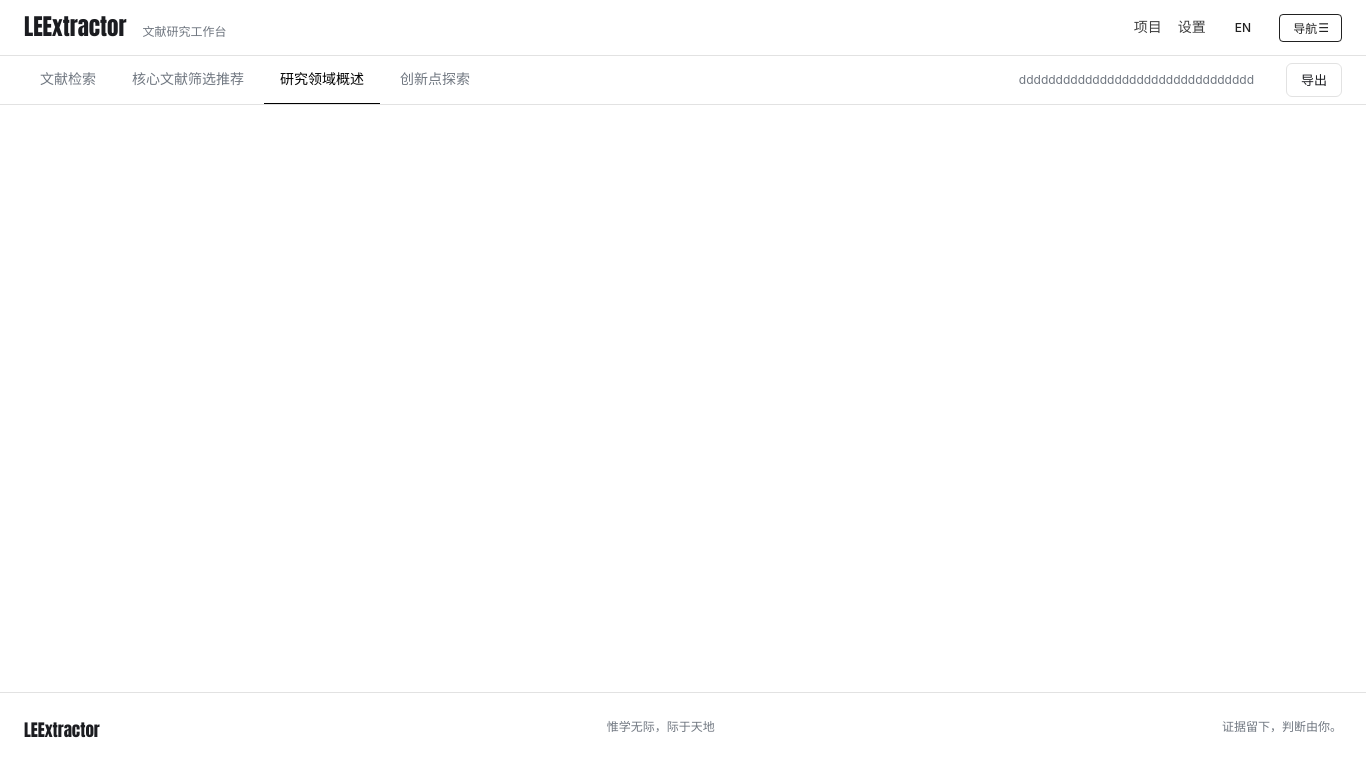
Test case: AppNav › marks the current stage, not a stale page name
Click the button "导航 ☰": {"x": 1311, "y": 28} [1279,14,1342,42]
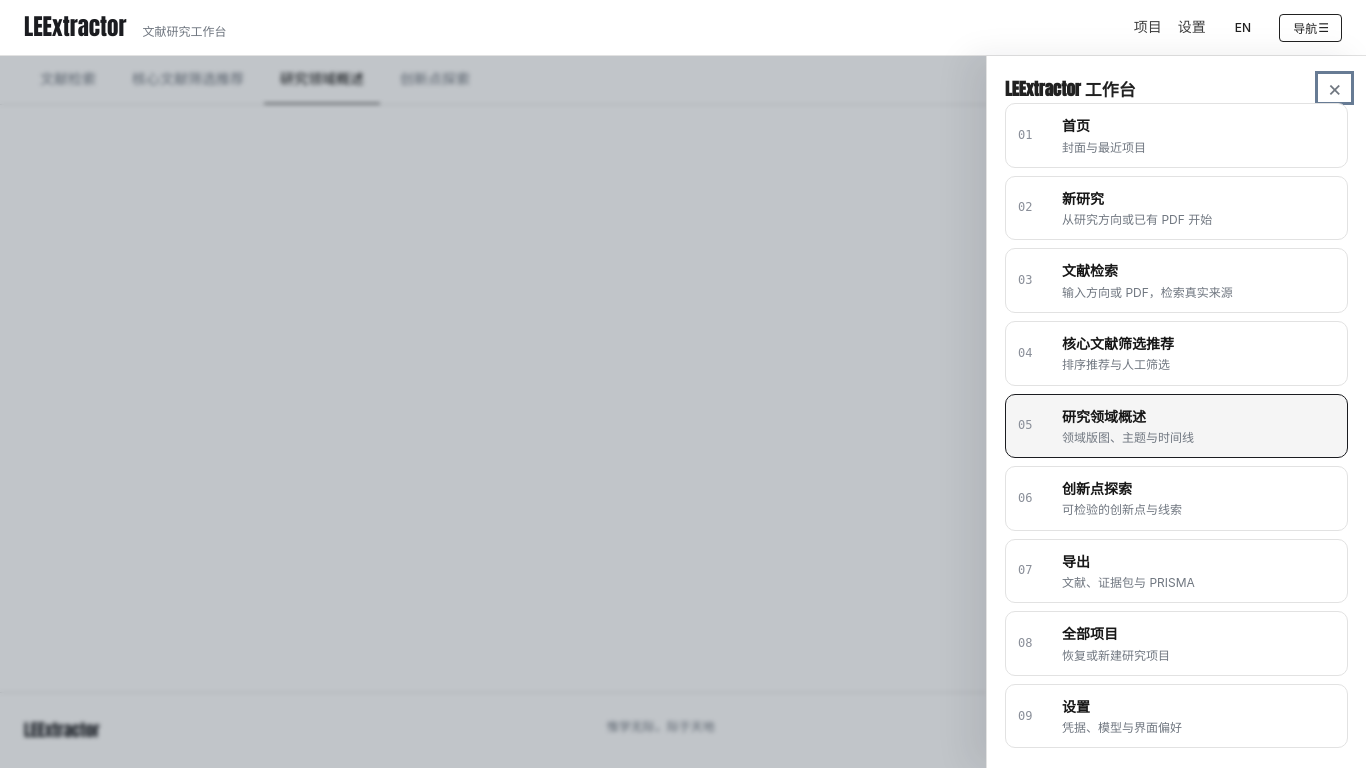
Expected: the button with class "current" showing "05 研究领域概述 领域版图、主题与时间线" is shown, [1005,394,1348,458]
Expected: the text with class "navmap__name" reads "研究领域概述", [1062,408,1146,424]
